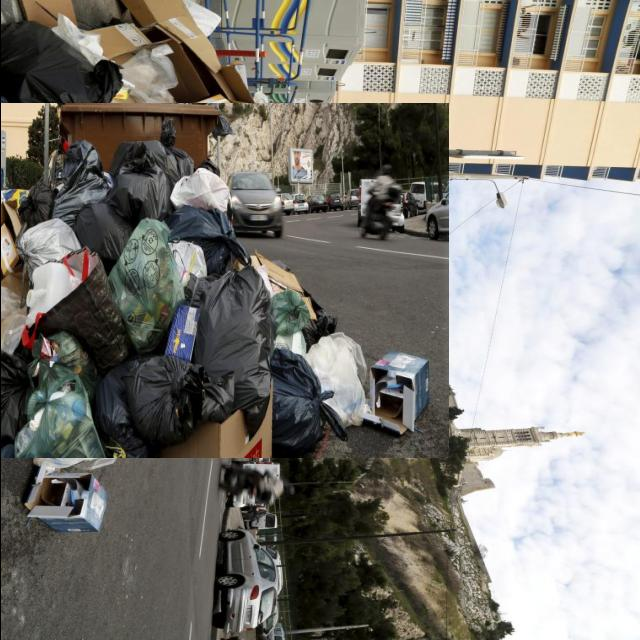garbage: (0, 56, 402, 504)
